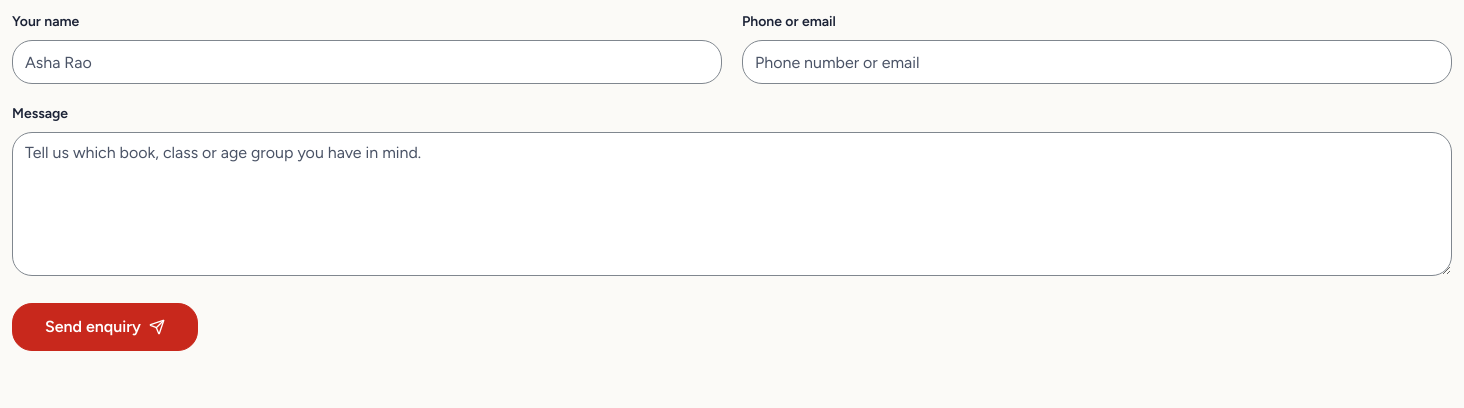
Test: EnquiryForm › shows an error with retry when the save fails and there is no number
Type "Asha" into the field labelled "Your name" at (367, 62), box [12,40,722,84]
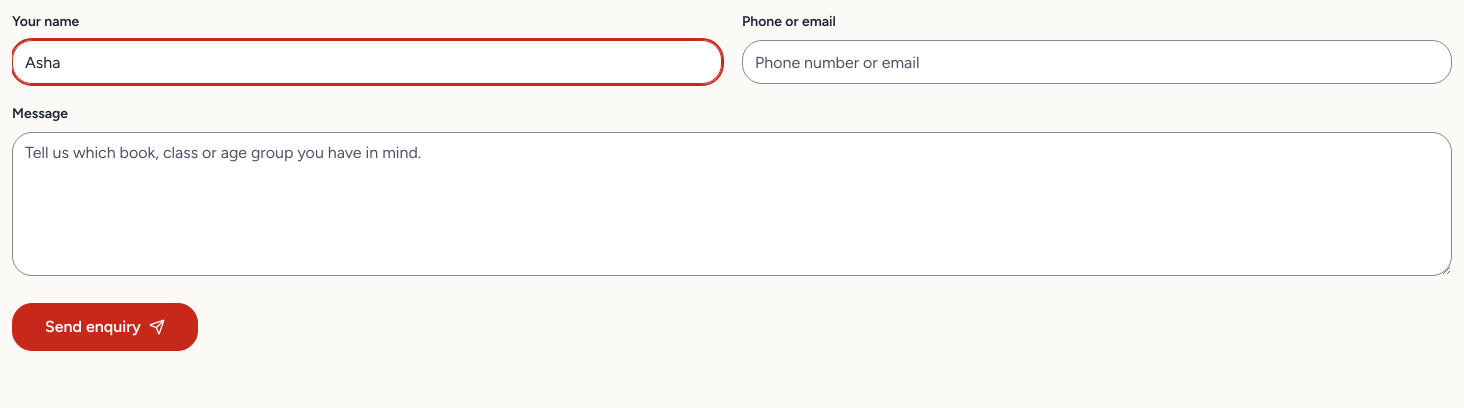
Type "a@b.in" into the field labelled "Phone or email" at (1097, 62), box [742,40,1452,84]
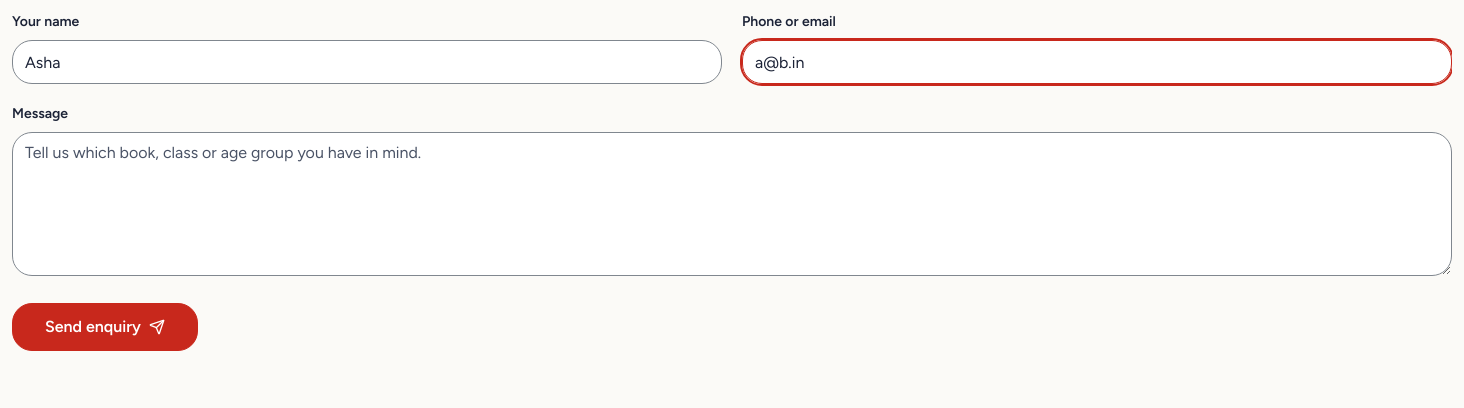
Type "Do you ship?" into the text box labelled "Message" at (732, 204), box [12,132,1452,276]
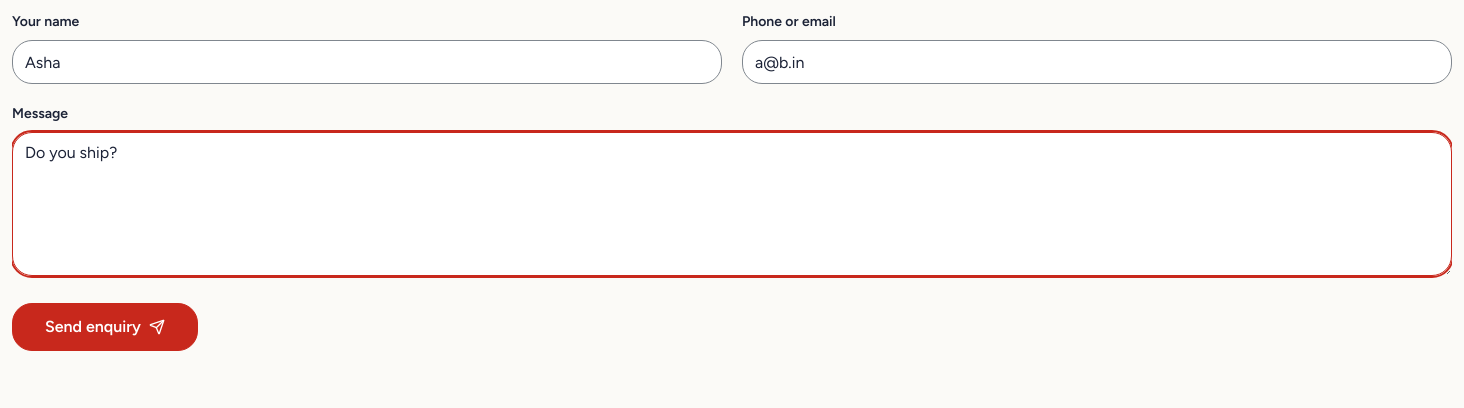
Click the button "Send enquiry" at (105, 327), box [12,303,198,351]
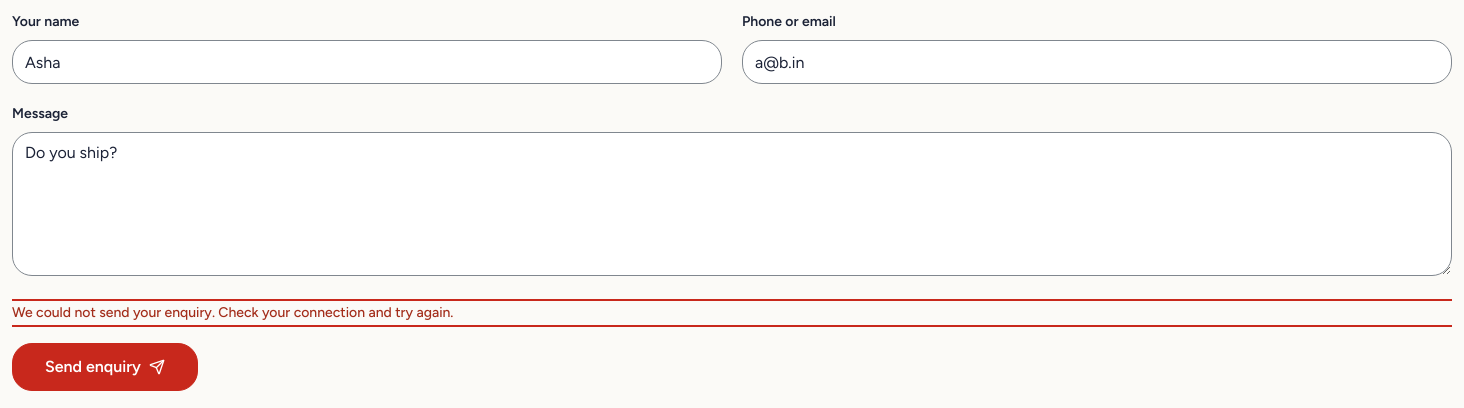
Expected: the button "Send enquiry" is enabled, [12,343,198,391]
Expected: the message shows "could not send", [12,304,453,321]
